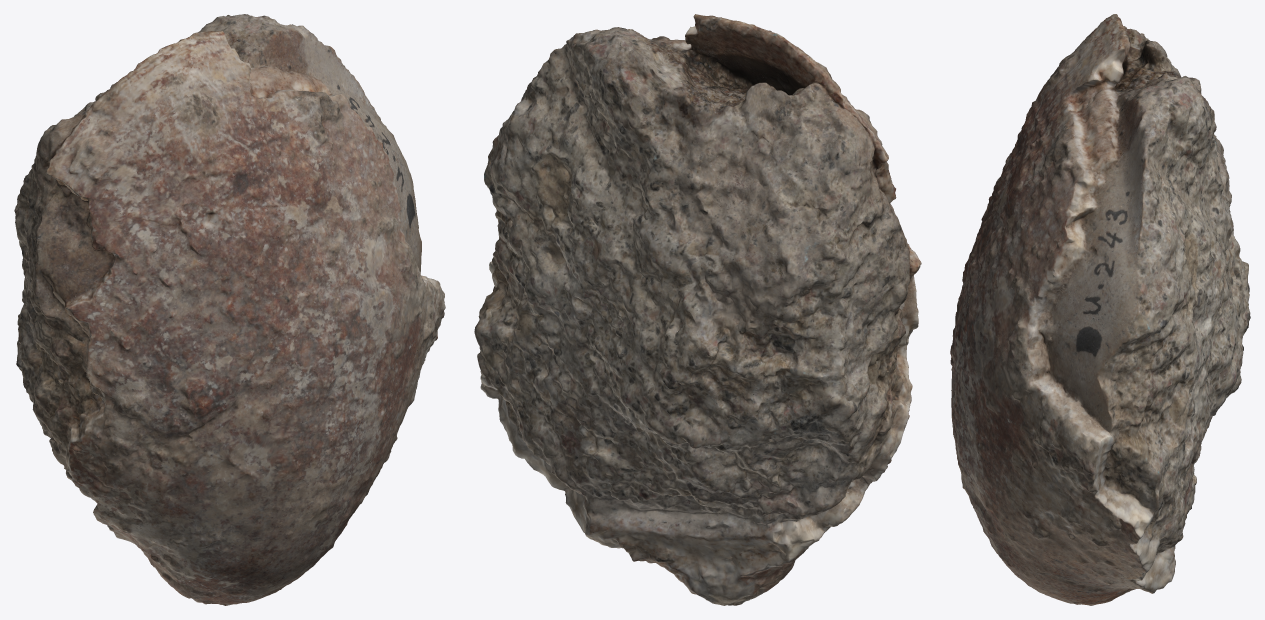
Rendered from EWS0016570.glb.
3 renders of one model, left to right at view 1: azimuth 30°, elevation 25°; view 2: azimuth 150°, elevation 25°; view 3: azimuth 270°, elevation 25°, orthographic. The views are drawn at different scales.
Visible parts, largest first — view 1: input; view 2: input; view 3: input.
Part boxes in pixels (x1=…): input: x1=14, y1=14, x2=445, y2=605; input: x1=474, y1=14, x2=921, y2=605; input: x1=950, y1=14, x2=1250, y2=605.
Bounding box in the file's own units: 0.0488 × 0.0649 × 0.0315.
1 material, 1 textured.
